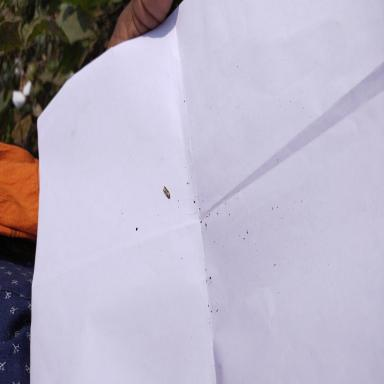pbw: (163, 186, 170, 199)
